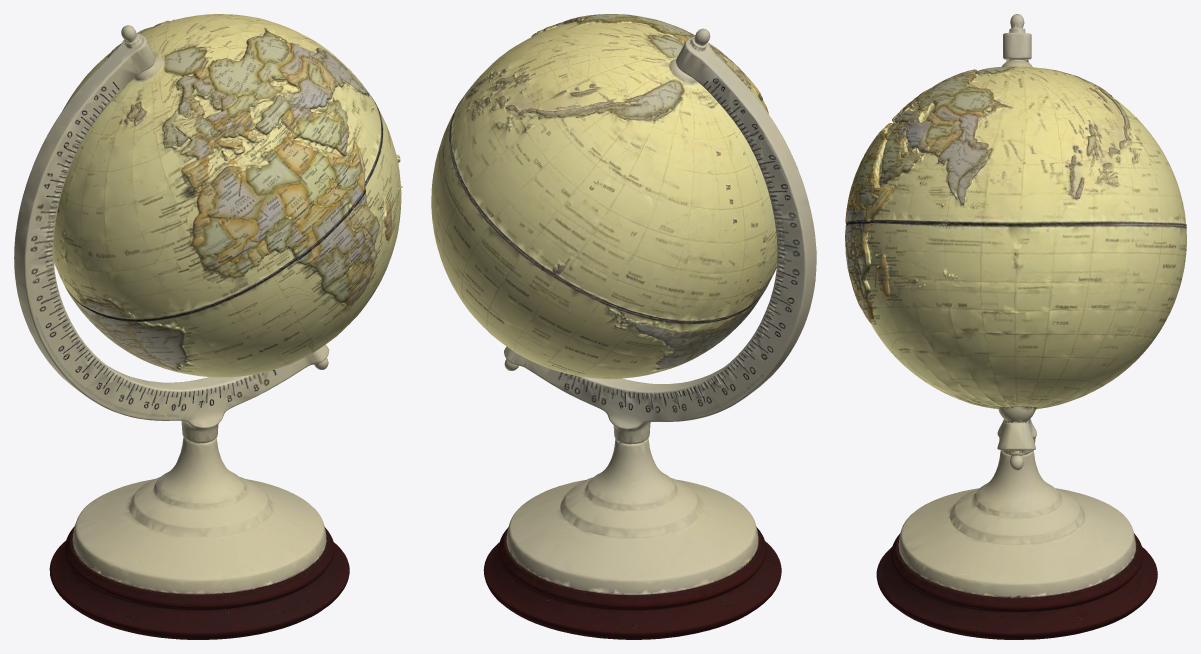
File: globus-01.glb
3 renders of one model, left to right at view 1: azimuth 30°, elevation 25°; view 2: azimuth 150°, elevation 25°; view 3: azimuth 270°, elevation 25°, orthographic. The views are drawn at different scales.
Size of the model in its own units: 1.25 by 1.9 by 1.1.
1 material, 1 textured.
